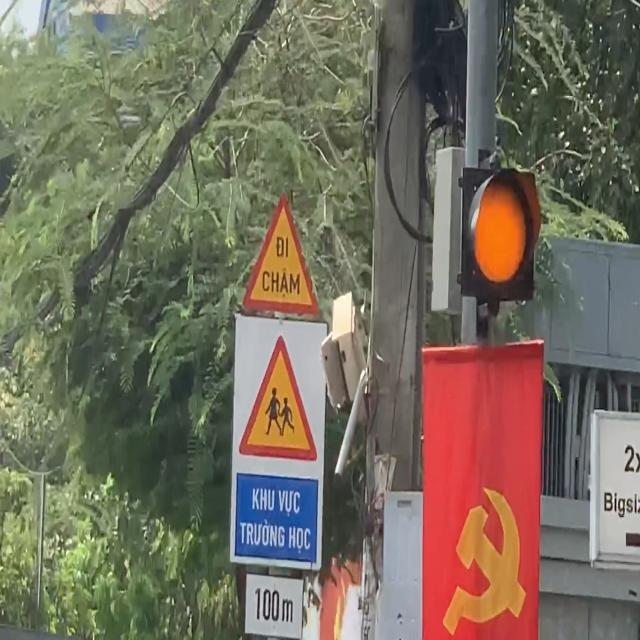Nguy hiem: (235, 328, 322, 466), (238, 188, 325, 318)
